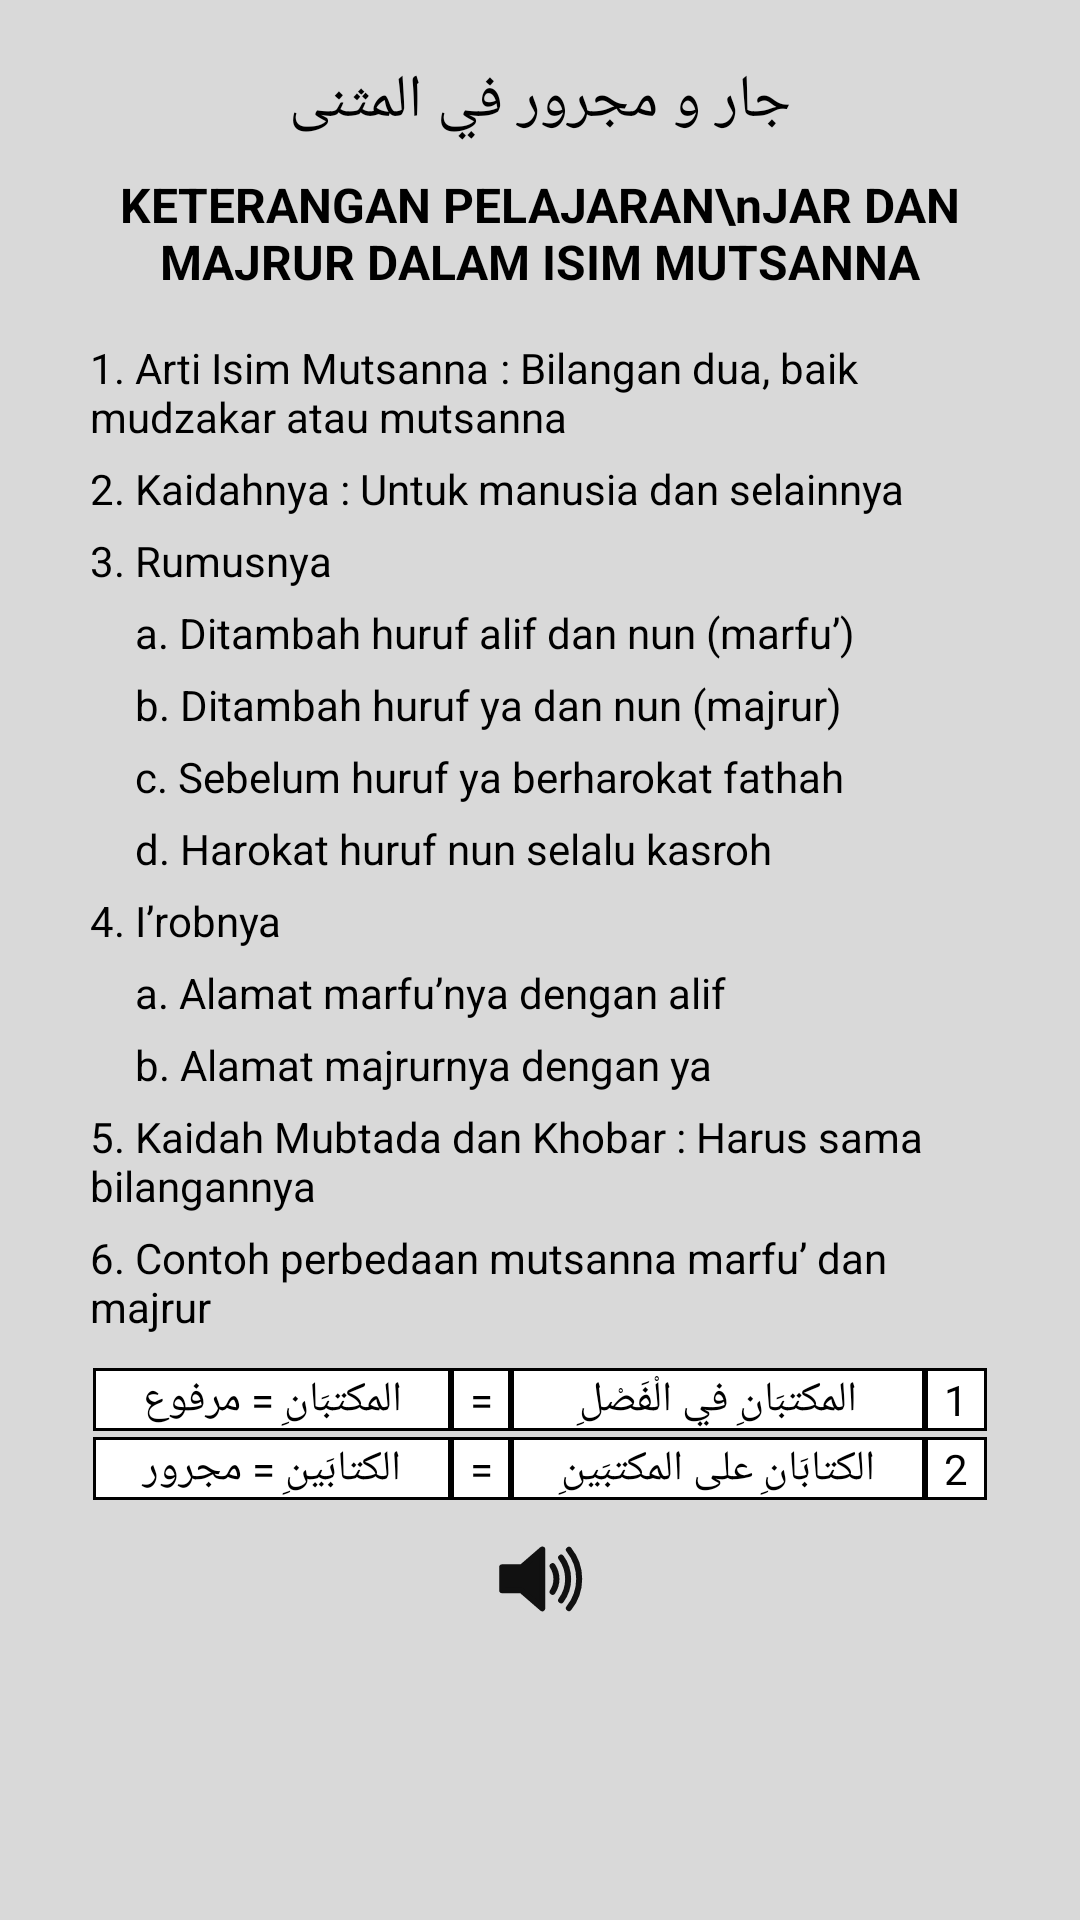

Screen size 1080*1920. Icon name, then its center in pixels as (x,y):
sound: (541,1579)
